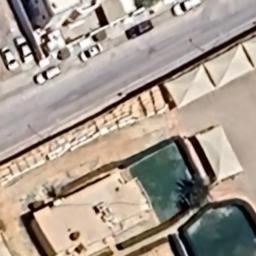sedan: (13, 32, 38, 64), (78, 41, 106, 64), (1, 46, 21, 73)
van: (32, 64, 64, 90), (122, 19, 158, 41), (172, 1, 206, 17)
